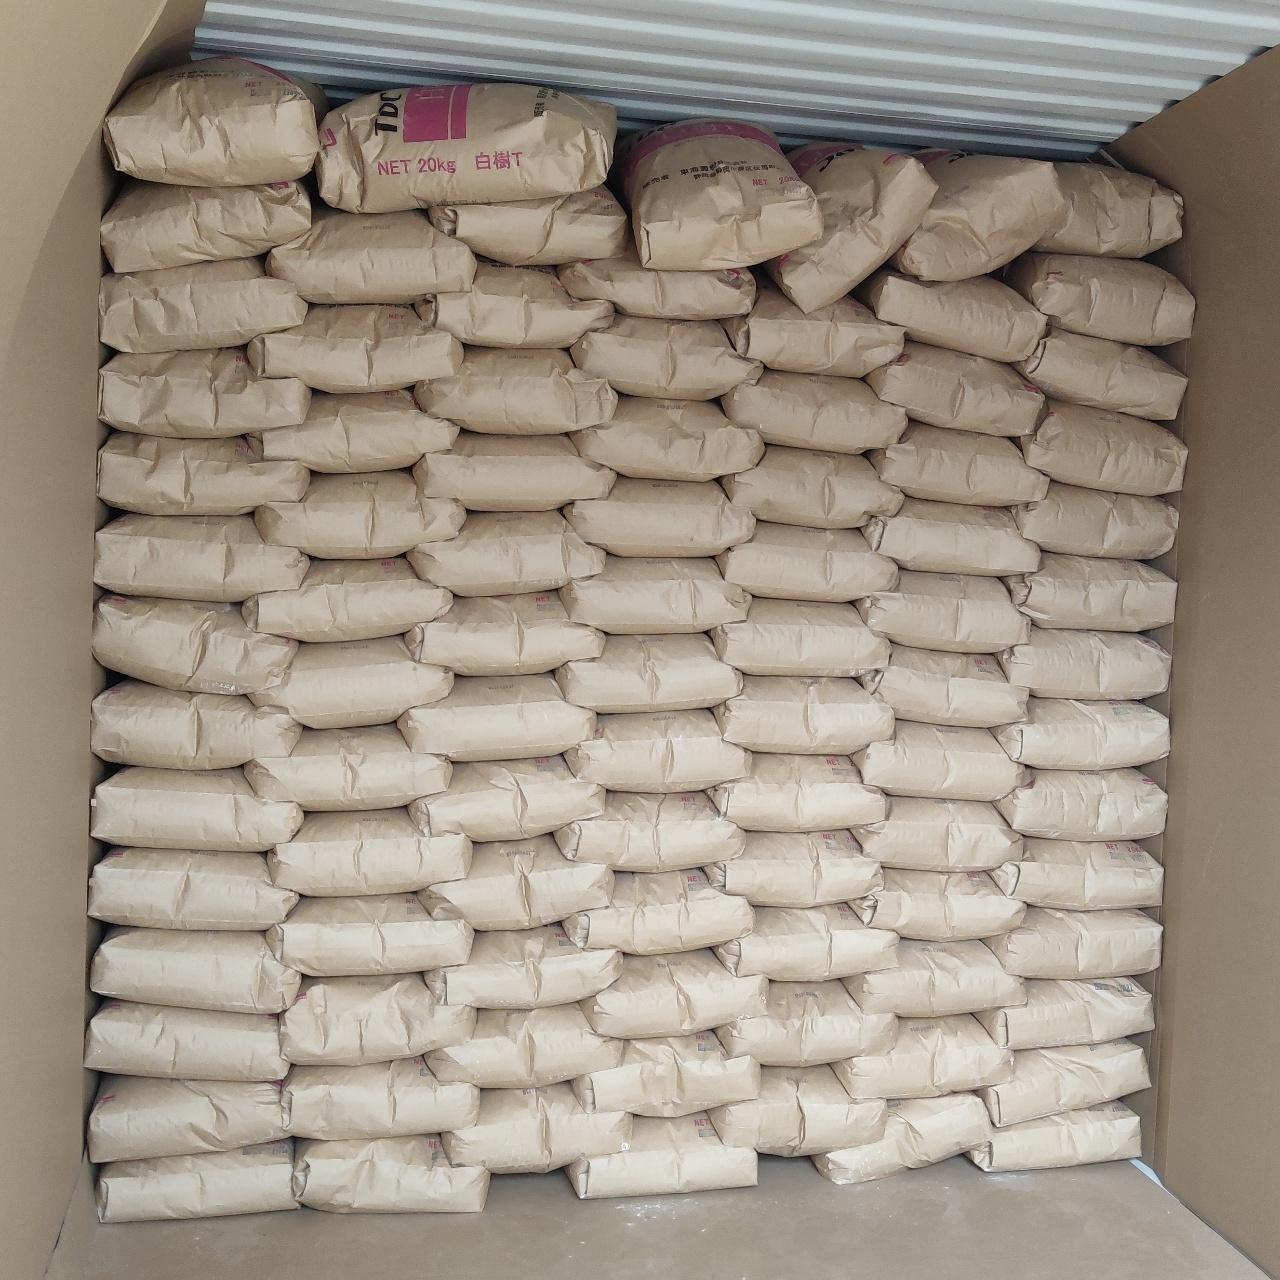sack: (318, 82, 614, 210), (616, 122, 818, 268), (104, 56, 326, 182), (770, 144, 934, 306), (894, 152, 1060, 278), (94, 596, 294, 692), (100, 258, 306, 350), (268, 210, 474, 302), (102, 180, 310, 270), (100, 348, 310, 436), (250, 636, 452, 726), (92, 680, 300, 766), (248, 306, 460, 390), (856, 266, 1046, 358), (92, 928, 300, 1012), (96, 516, 308, 598), (256, 472, 462, 556), (1000, 252, 1192, 342), (420, 836, 612, 926), (92, 768, 302, 850), (270, 808, 470, 894), (282, 974, 474, 1062), (416, 260, 612, 346), (720, 285, 903, 377), (246, 726, 450, 808), (100, 434, 308, 514), (244, 558, 452, 638), (866, 342, 1044, 434), (444, 1084, 630, 1172), (90, 848, 294, 928), (400, 674, 594, 758), (406, 592, 604, 674), (416, 348, 614, 430), (248, 392, 456, 470), (268, 894, 470, 974), (408, 512, 604, 594), (426, 1004, 622, 1086), (426, 924, 622, 1006), (90, 1076, 286, 1158), (410, 756, 604, 838), (582, 950, 766, 1036), (1018, 400, 1184, 494), (414, 432, 614, 510), (86, 1000, 286, 1078), (98, 1142, 298, 1220), (572, 396, 762, 478), (574, 1032, 758, 1116), (568, 1114, 756, 1196), (816, 1094, 990, 1182), (1014, 328, 1184, 418), (572, 316, 758, 398), (564, 870, 750, 952), (284, 1058, 478, 1136), (722, 370, 906, 452), (710, 1068, 884, 1154), (430, 186, 626, 262), (294, 1136, 486, 1212), (568, 710, 750, 790), (556, 792, 742, 870), (722, 446, 902, 526), (566, 478, 754, 554), (980, 1040, 1150, 1124), (868, 422, 1046, 502), (856, 570, 1028, 652), (718, 982, 894, 1062), (834, 1016, 1010, 1096), (556, 634, 740, 710), (562, 556, 750, 630), (858, 646, 1028, 726), (1036, 162, 1182, 254), (710, 754, 886, 830), (718, 522, 894, 598), (716, 906, 896, 980), (1004, 552, 1174, 630), (864, 498, 1038, 574), (712, 598, 886, 674), (704, 830, 878, 906), (844, 940, 1022, 1014), (714, 676, 892, 750), (852, 722, 1024, 798), (560, 252, 754, 318), (1012, 482, 1176, 558), (850, 868, 1022, 940), (966, 1102, 1142, 1172), (852, 798, 1022, 870), (990, 838, 1162, 908), (996, 768, 1166, 838), (976, 978, 1150, 1046), (1000, 628, 1168, 698), (994, 698, 1166, 766), (984, 908, 1158, 974)
